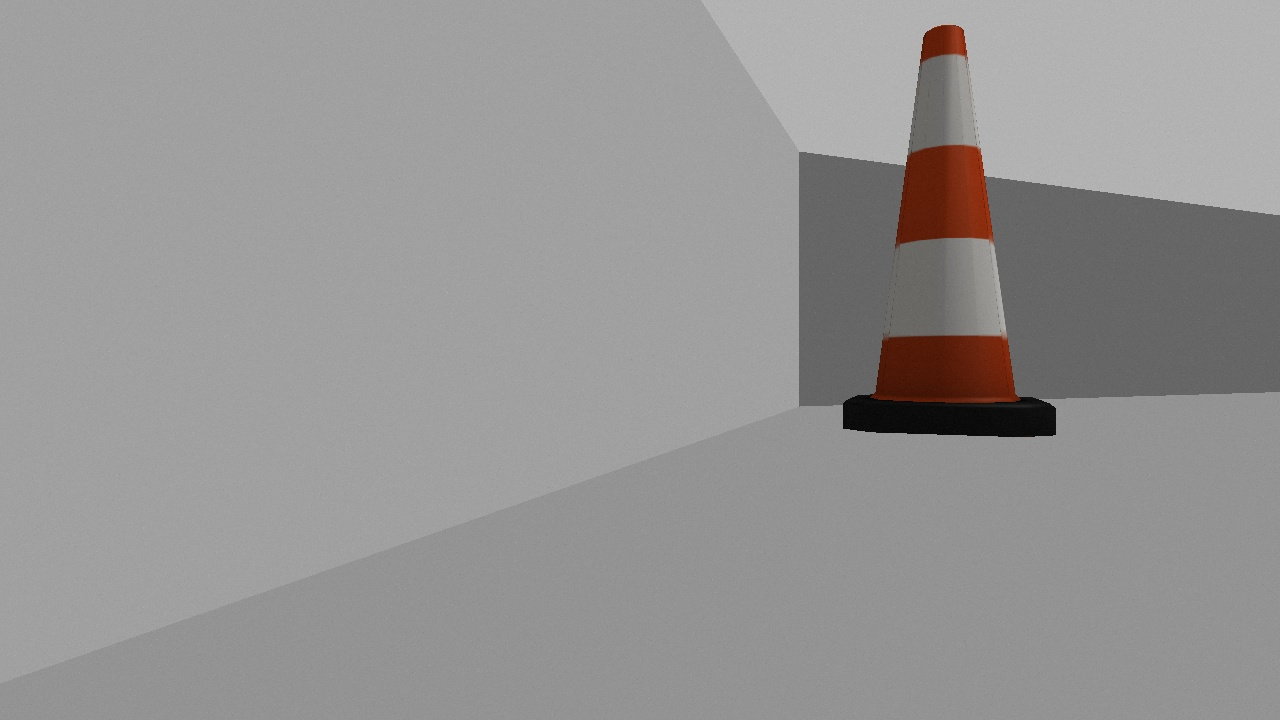barricade: (841, 21, 1057, 437)
